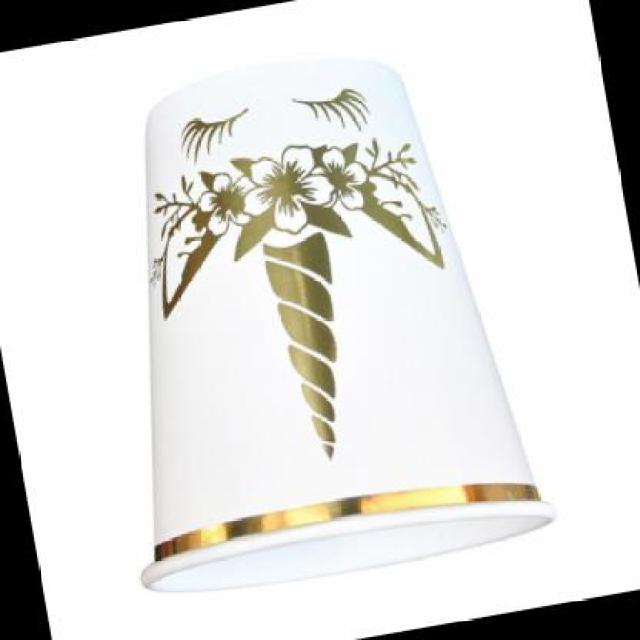non-biodegradable: (39, 0, 603, 629)
